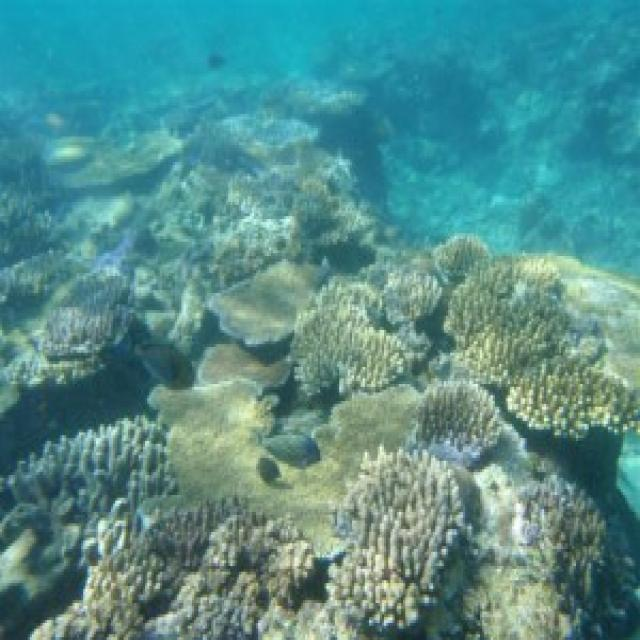Healthy: (33, 502, 334, 638), (152, 388, 417, 539), (445, 263, 637, 433), (470, 473, 632, 638), (330, 450, 472, 632), (1, 416, 174, 556), (291, 285, 415, 396), (210, 260, 319, 345), (383, 237, 487, 320), (39, 271, 133, 359), (417, 385, 502, 453), (197, 345, 291, 388)
